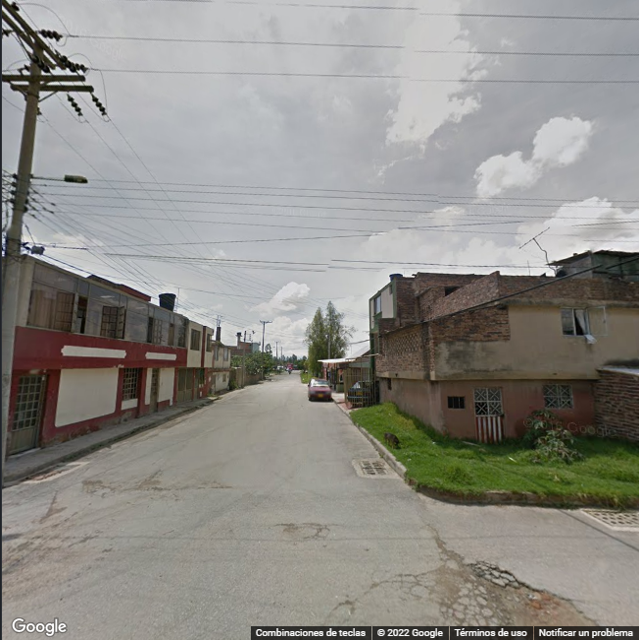D00: (354, 572, 405, 606)
D10: (420, 513, 463, 561), (557, 590, 604, 630)
D20: (438, 568, 510, 627)
